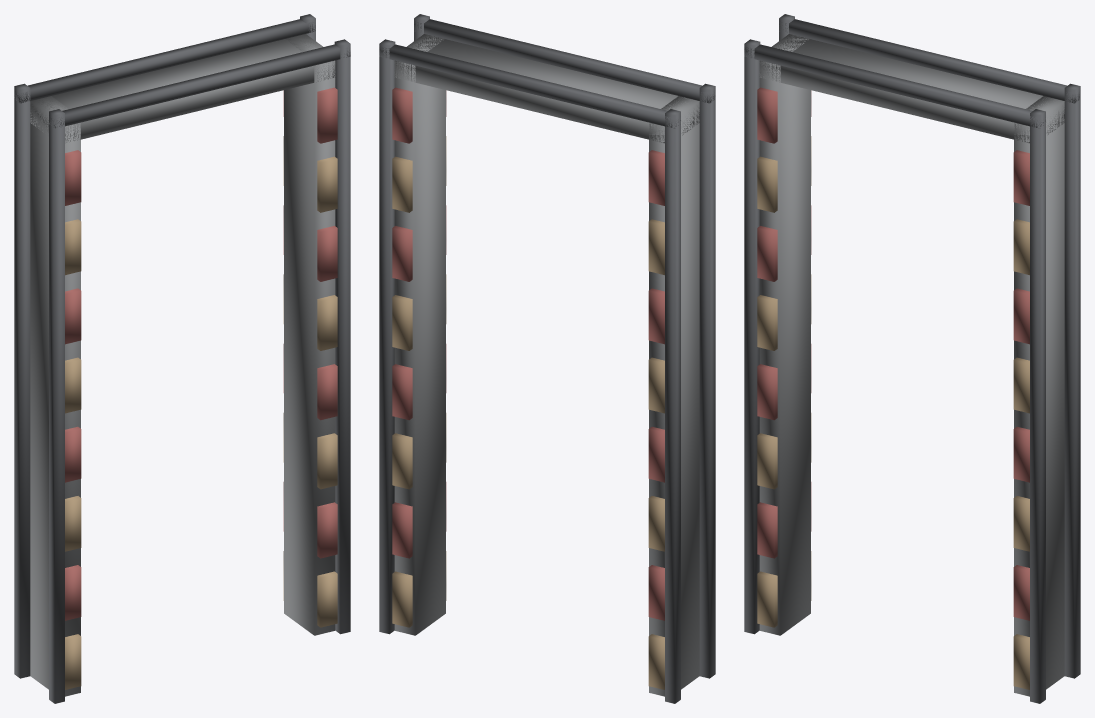
The model's file is doorway_brick_return_w106_h240_d24.glb.
3 renders of one model, left to right at view 1: azimuth 30°, elevation 25°; view 2: azimuth 150°, elevation 25°; view 3: azimuth 330°, elevation 25°, orthographic.
Parts seen in each view (by area): view 1: world; view 2: world; view 3: world.
Part boxes in pixels (<box>): world: <box>14,14,350,703</box>; world: <box>379,14,715,703</box>; world: <box>744,14,1080,703</box>.
Size of the model in its own units: 1.34 by 2.55 by 0.3178.
